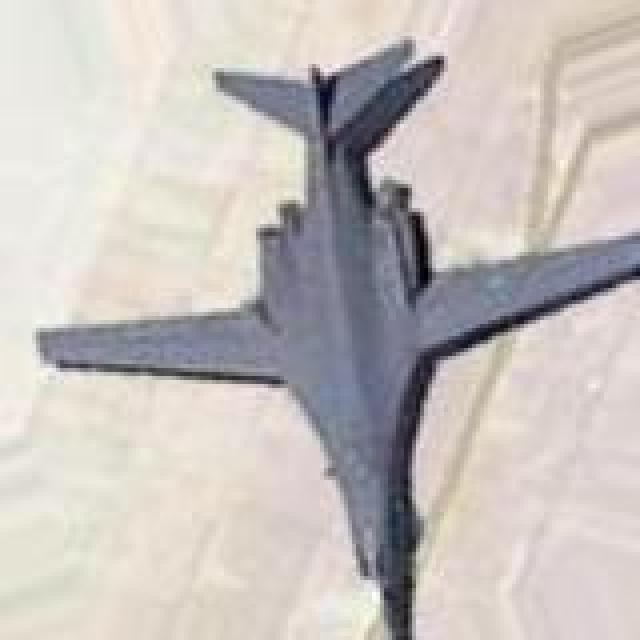B-1_TopDown: (32, 32, 636, 636)
